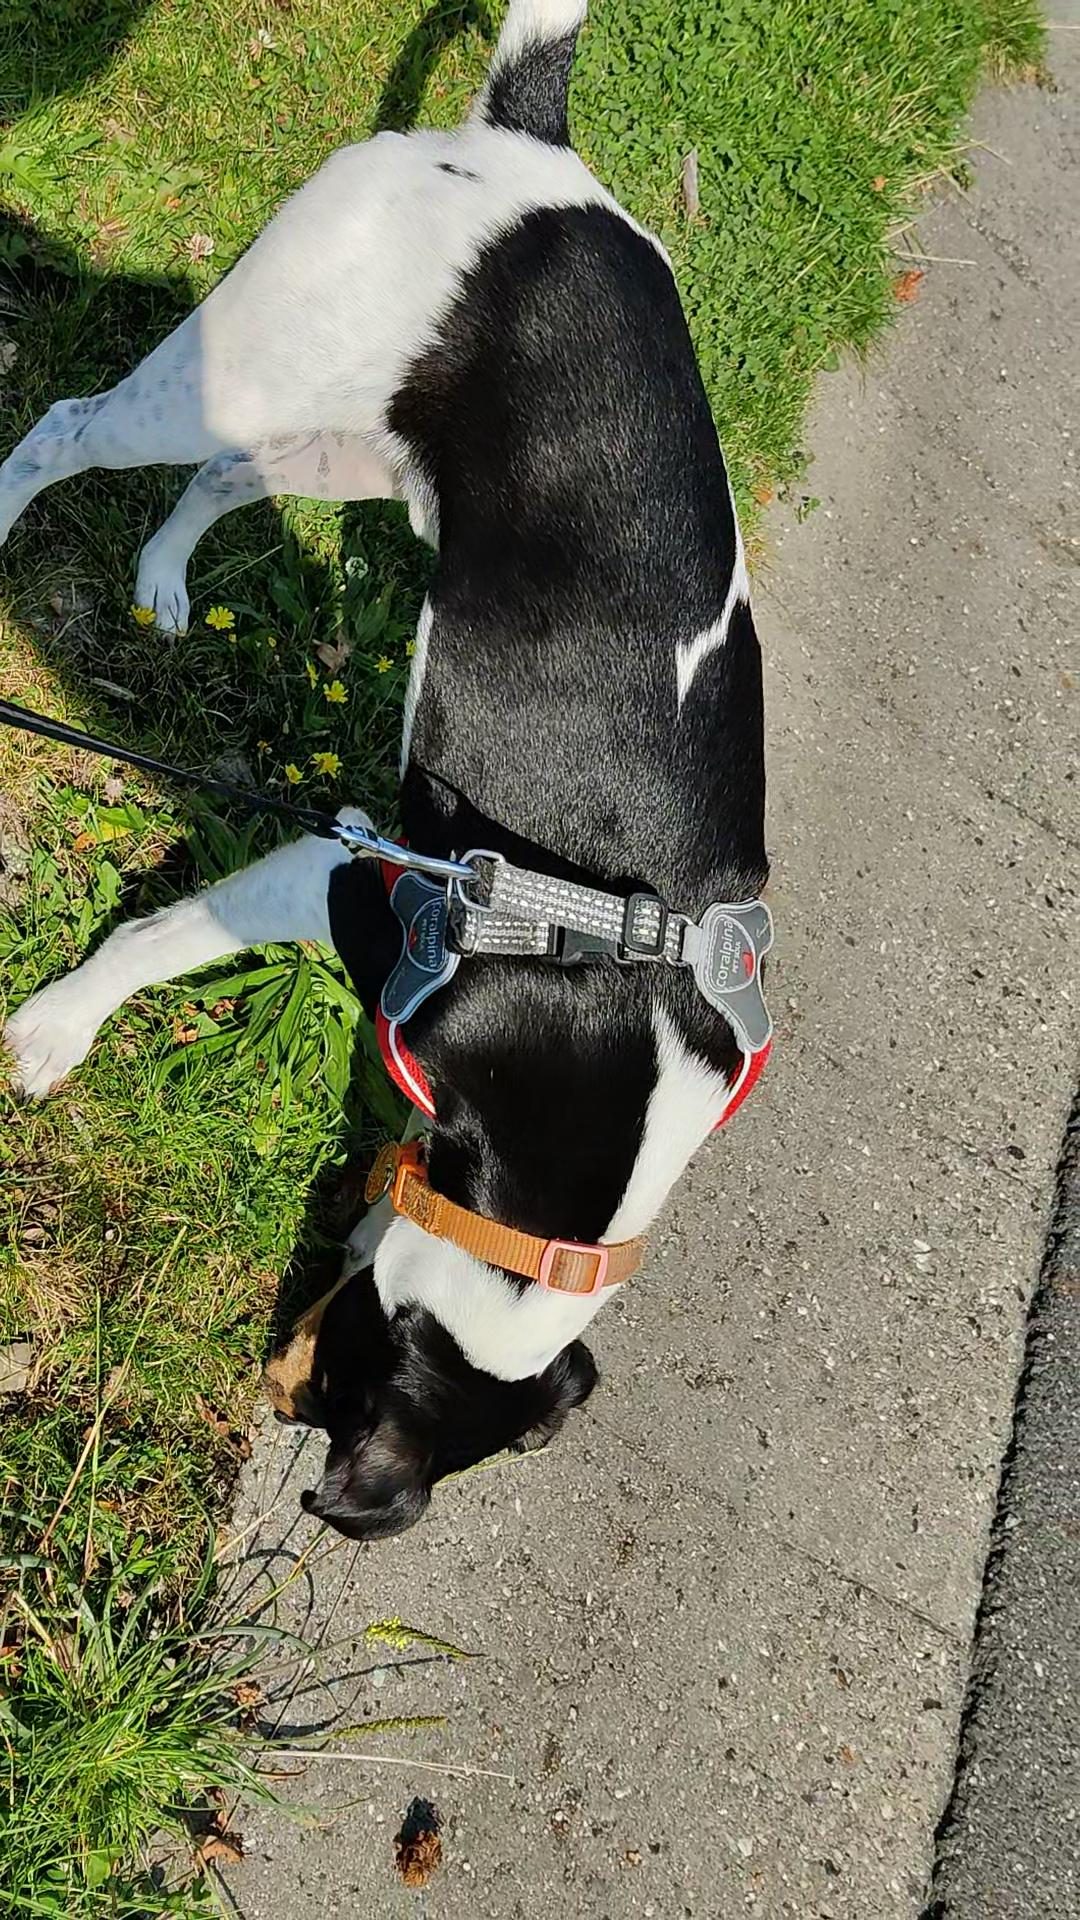Dog: (0, 0, 806, 1568)
